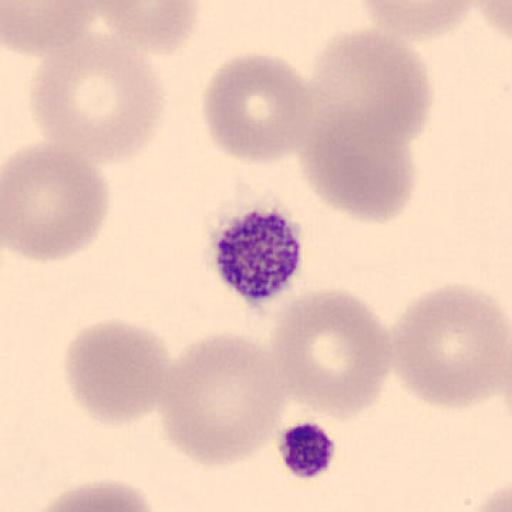Platelet: (210, 206, 306, 305), (273, 418, 340, 482)
RBC: (2, 0, 197, 111), (154, 331, 291, 469), (28, 31, 167, 165), (270, 288, 394, 421), (387, 282, 510, 412), (305, 27, 433, 151), (294, 102, 419, 224), (0, 0, 205, 69), (1, 141, 111, 262), (200, 51, 314, 165), (61, 318, 174, 428), (97, 0, 203, 55), (2, 0, 96, 55), (354, 0, 478, 41), (26, 476, 161, 512), (473, 0, 512, 37), (466, 481, 512, 512)
